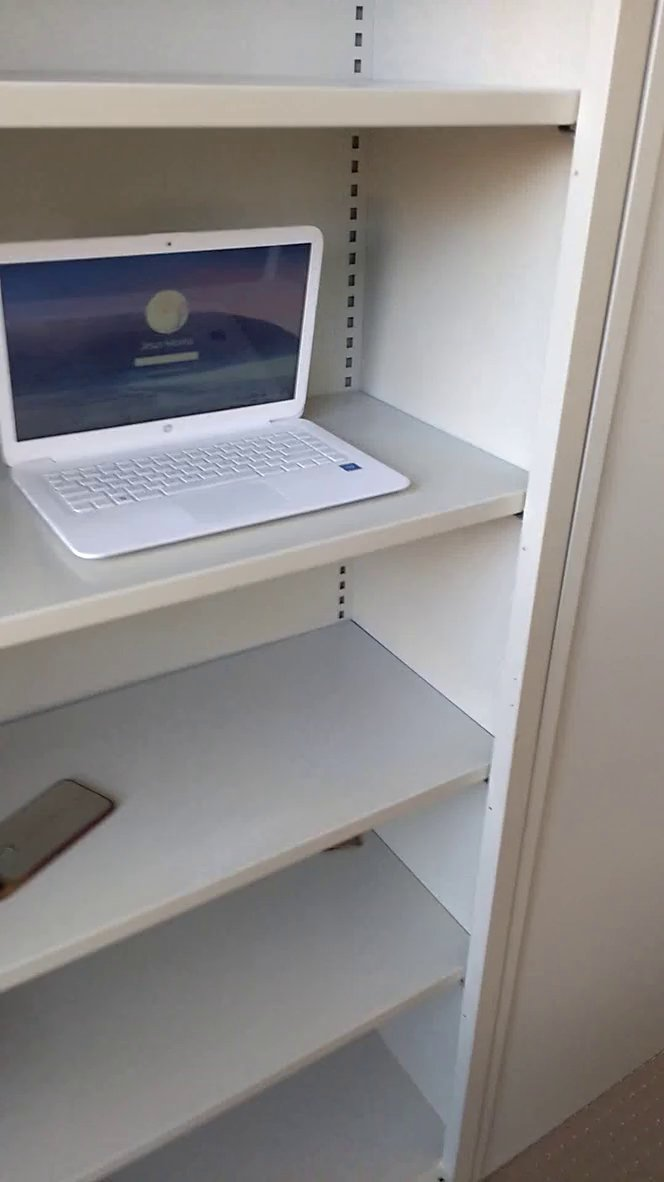laptop: (2, 202, 419, 580)
phone: (1, 764, 126, 908)
